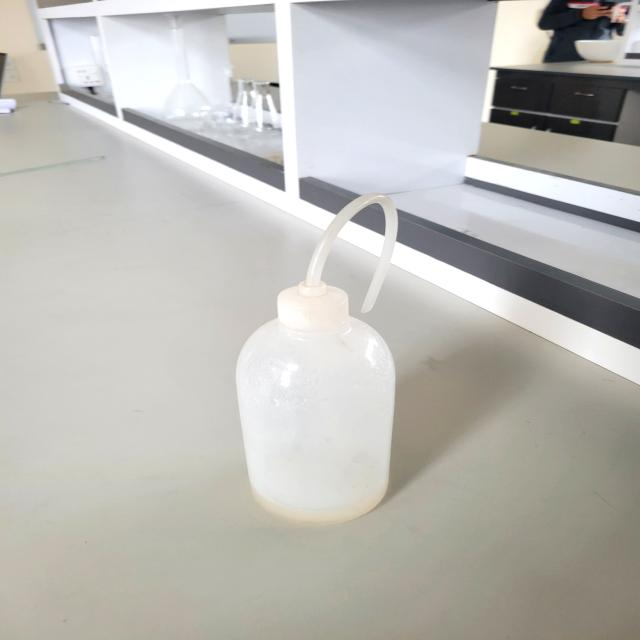Wash_Bottle: (203, 185, 444, 543)
